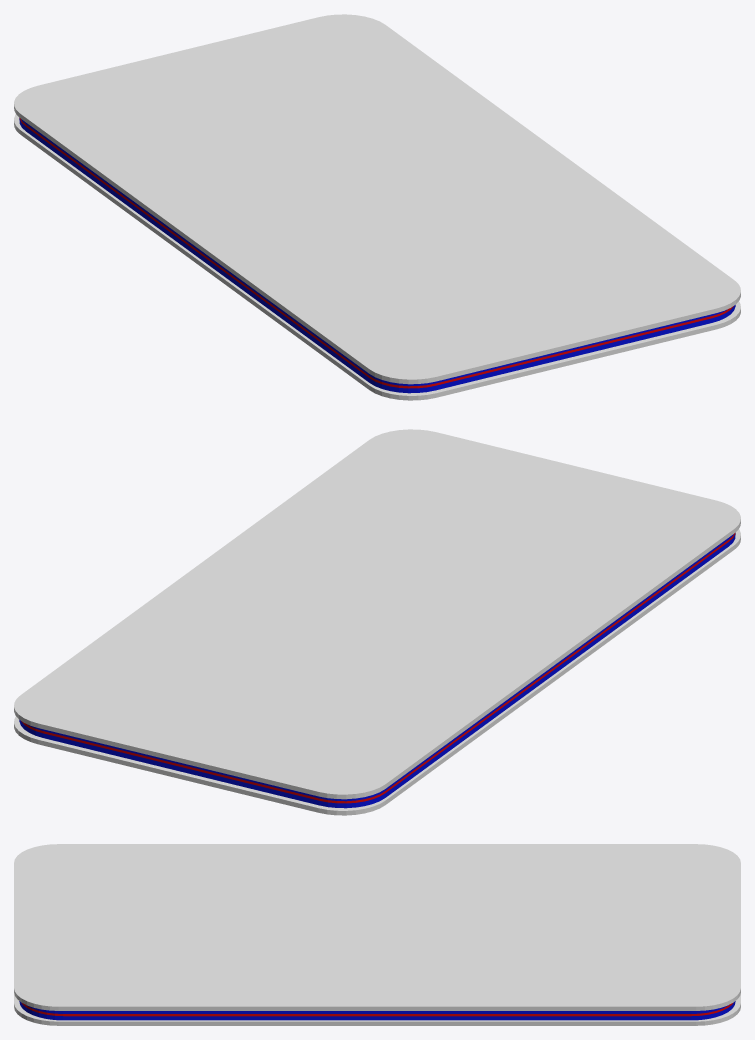
Rendered from gasStationRoof.fbx.
The picture shows the model from 3 angles, top to bottom: view 1: azimuth 30°, elevation 25°; view 2: azimuth 150°, elevation 25°; view 3: azimuth 270°, elevation 25°; orthographic projection. The views are drawn at different scales.
Visible parts, largest first — view 1: Cube; view 2: Cube; view 3: Cube.
Boxes of the visible parts, x1,y1,x2,y2 form: Cube: [14, 14, 740, 400]; Cube: [14, 429, 740, 815]; Cube: [14, 844, 740, 1025].
Bounding box in the file's own units: 1491 × 81.75 × 2816.
